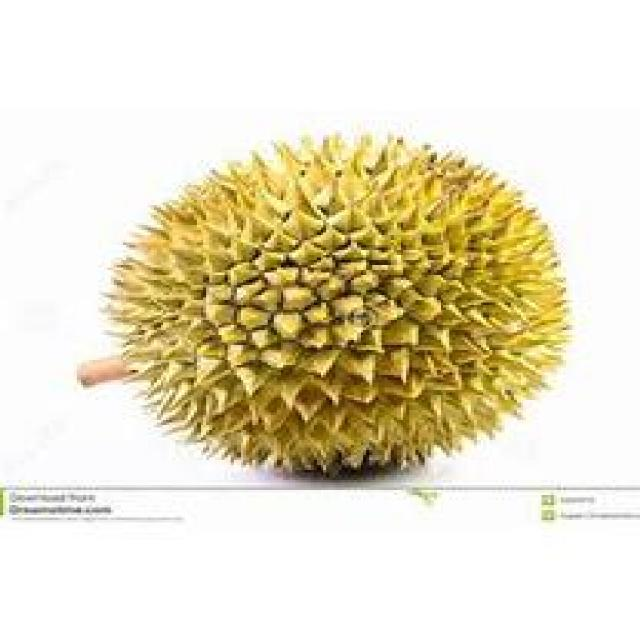fruit: (68, 120, 458, 502)
